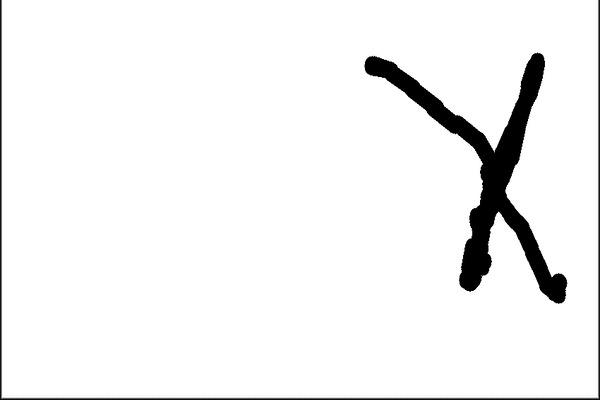X: (339, 39, 578, 311)
